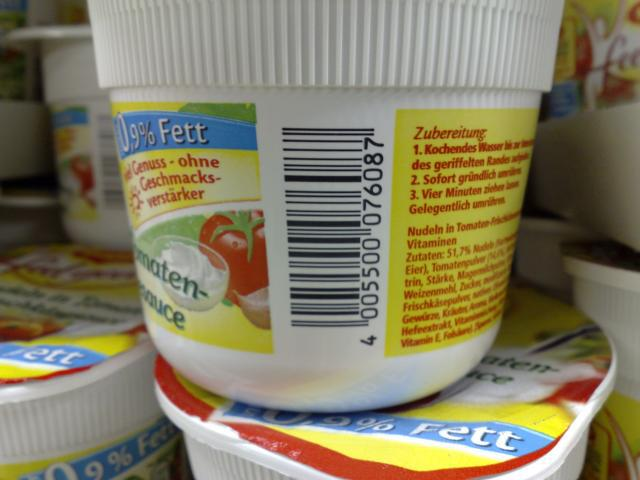Barkod: (278, 124, 370, 324)
